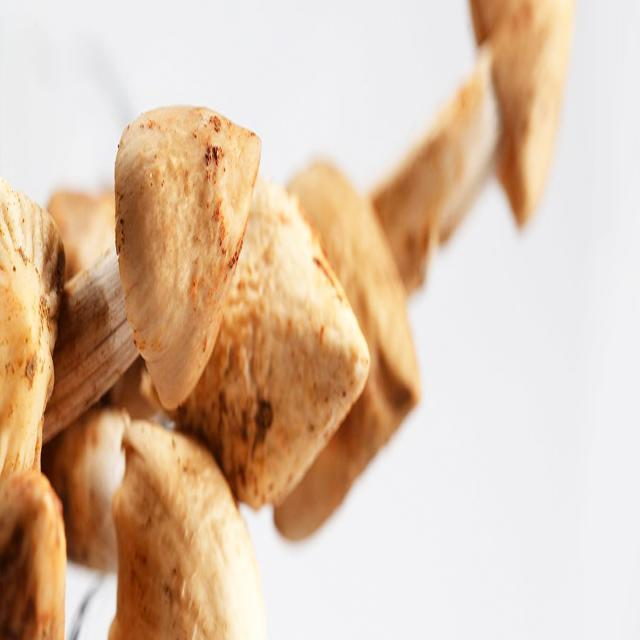Collybia albuminosa: (27, 105, 260, 437), (155, 180, 368, 489), (371, 0, 574, 303), (44, 405, 272, 637)
